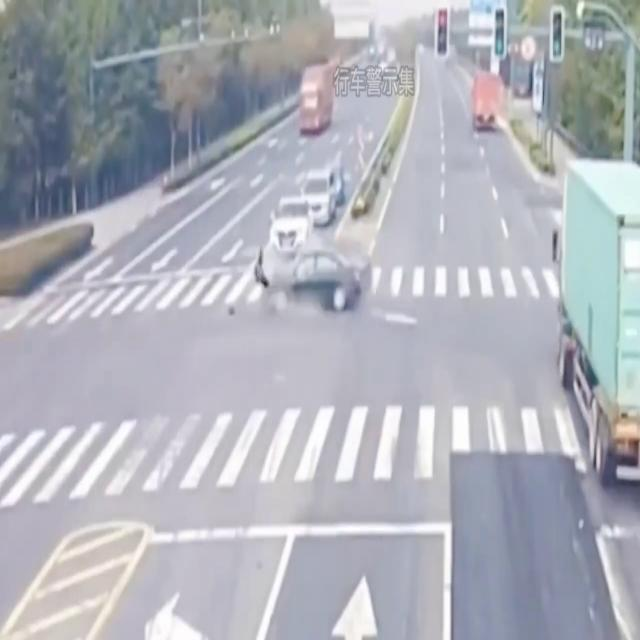accident: (250, 239, 380, 321)
non-accident: (470, 72, 640, 492), (270, 162, 346, 252)
